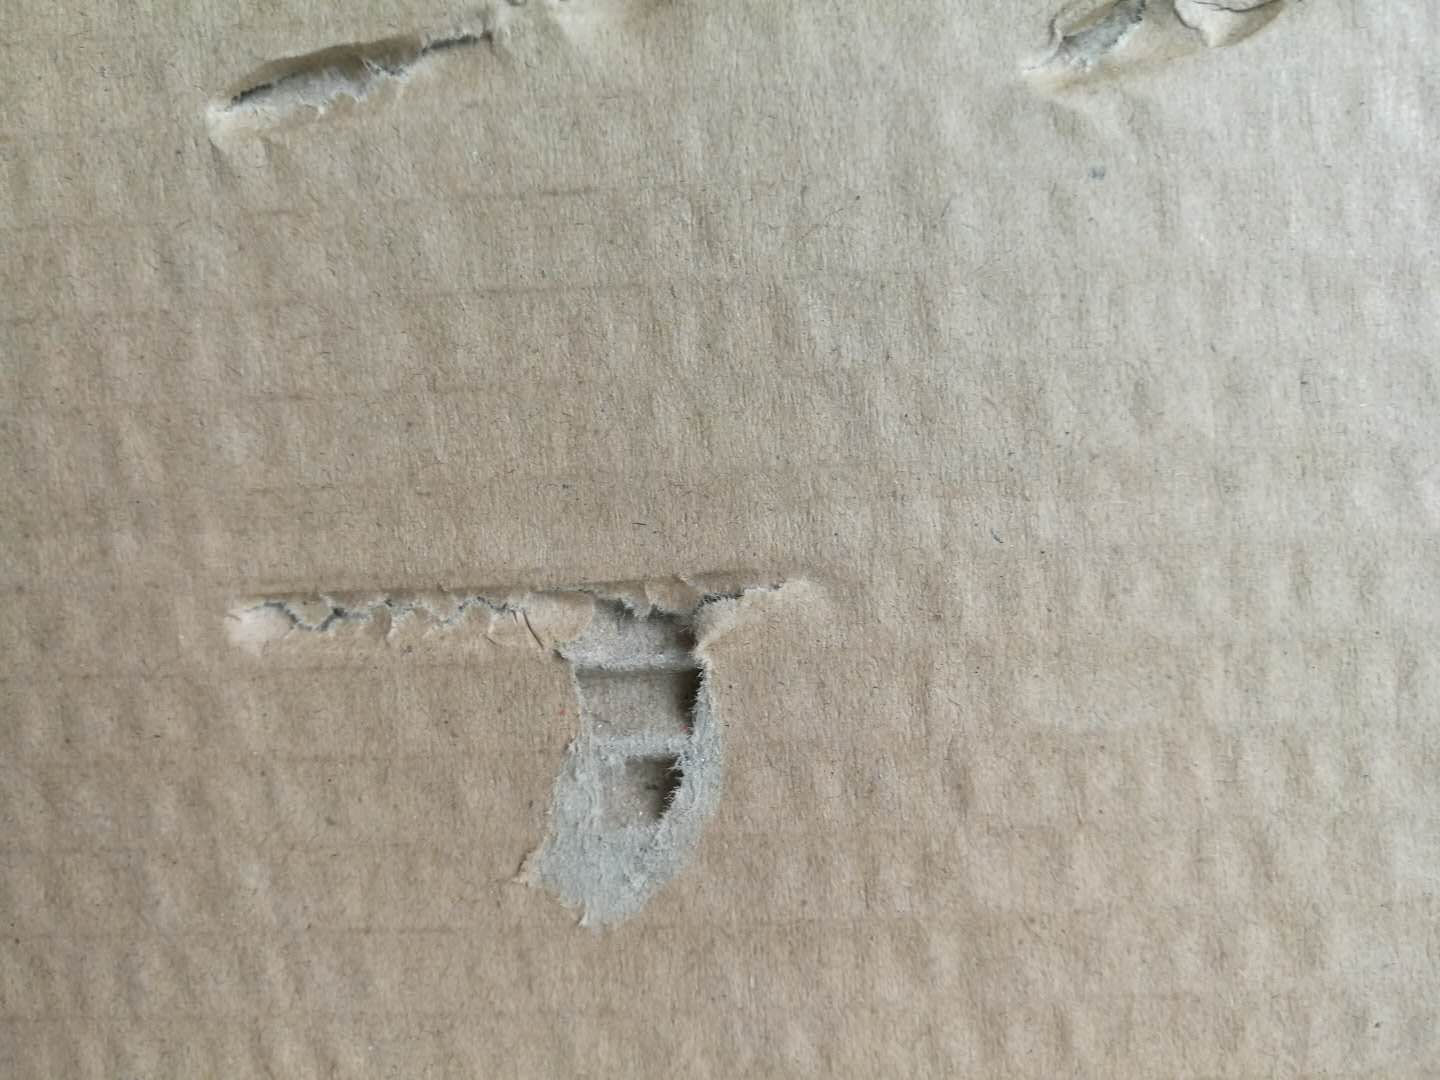defect: (210, 540, 858, 948), (170, 3, 744, 185), (986, 1, 1340, 132)
